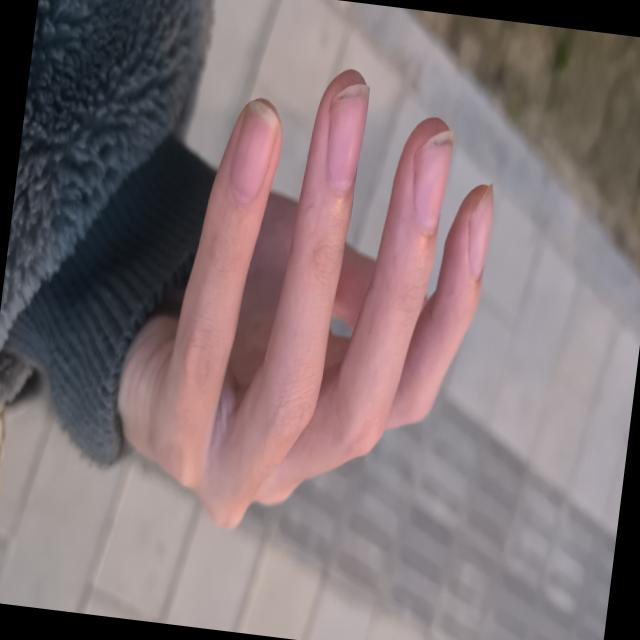Nail: (229, 101, 276, 202), (326, 84, 368, 193), (413, 132, 452, 234), (467, 185, 492, 278)
